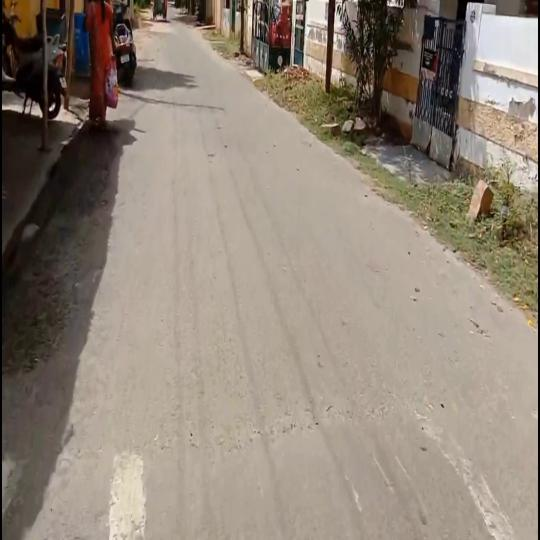Speed Bump: (1, 408, 539, 540)
